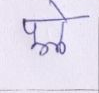o_matra: (56, 4, 68, 54)
